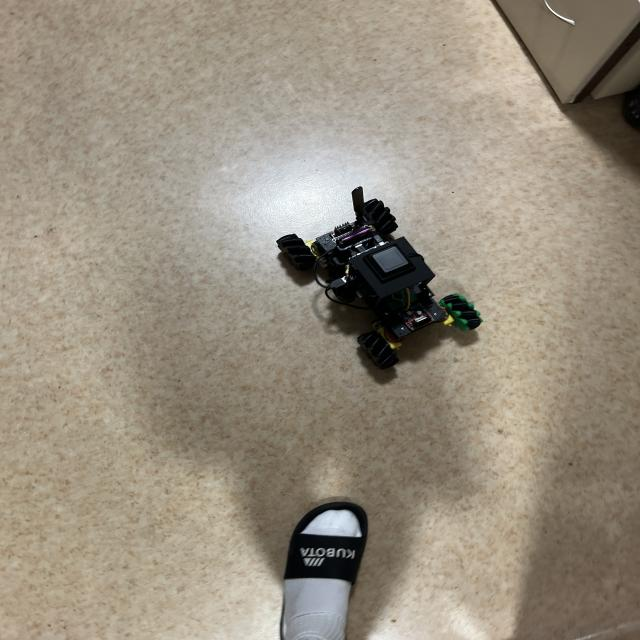robot: (276, 187, 482, 369)
